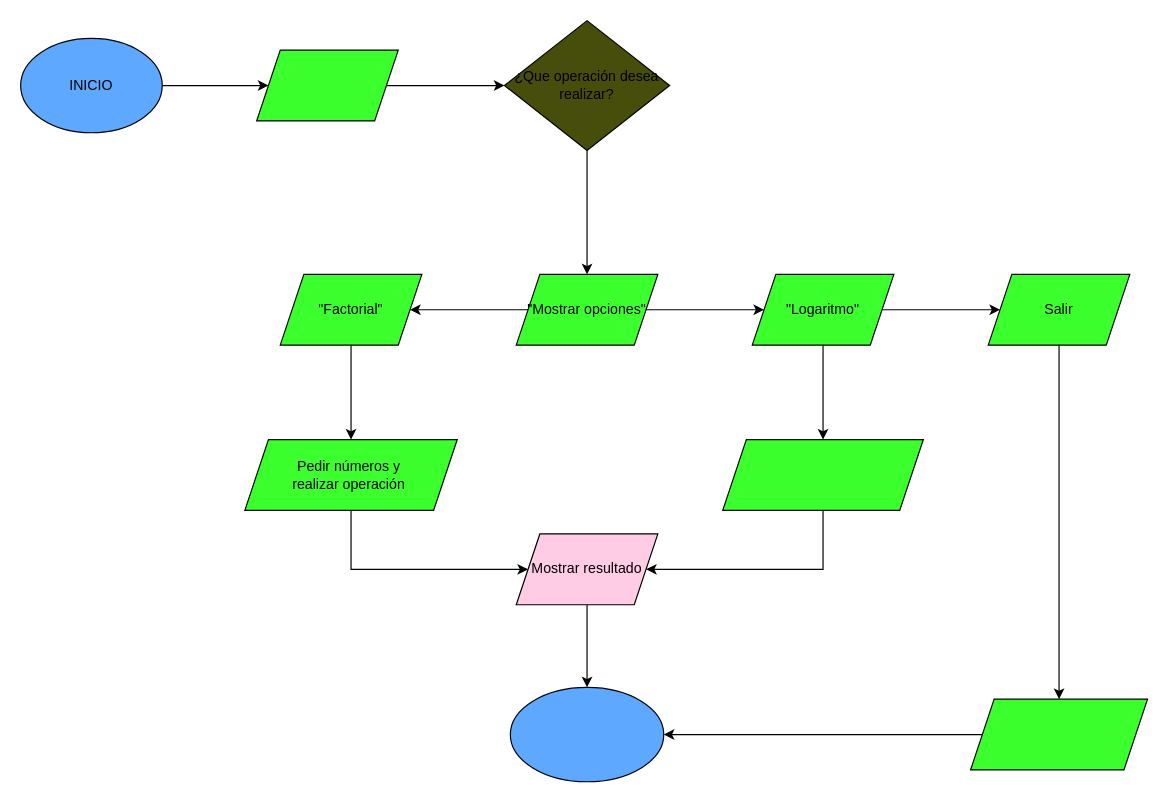
Some shapes in this 1168 by 802 pixel diagram are drawn without their labels. Here are the shapes that lost their labels. From the top down, the box of each, then its label:
(255, 49, 398, 121): Mostrar menú
(722, 438, 923, 510): Pedir números y Realizar operacion
(509, 686, 664, 782): FIN
(969, 698, 1148, 770): Mostrar en pantalla: Saliendo
